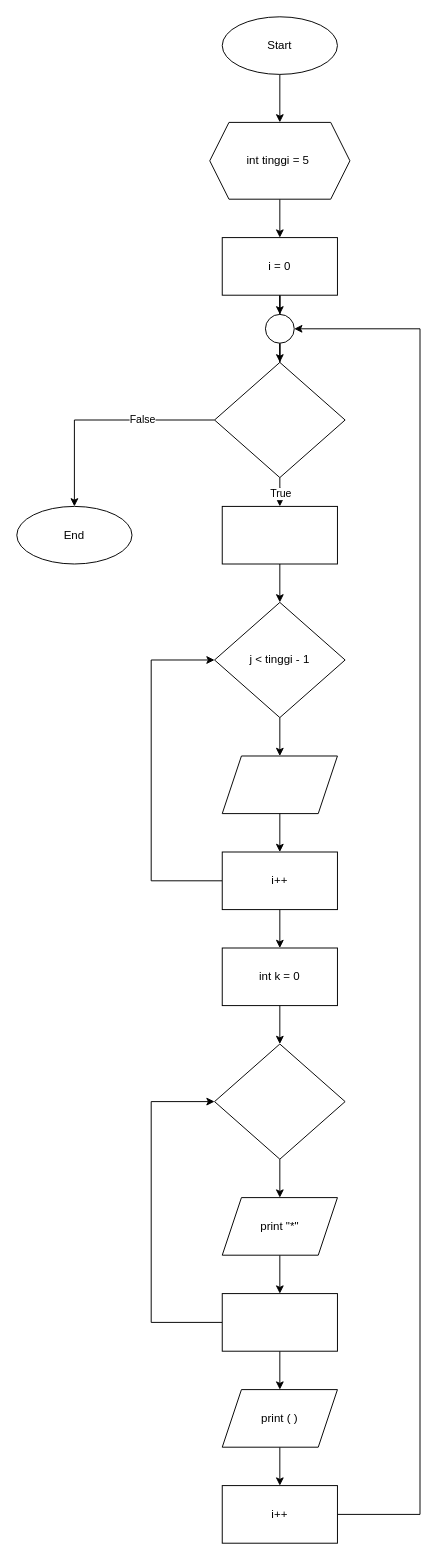
The diagram is 444 pixels wide and 1560 high, and some of its shapes have lost their labels. The shapes that lost their labels are listed below. From the top down, each one's box as (x1, y1, x2, y2) in pixels, then its label:
(214, 361, 345, 478): i < tinggi
(221, 505, 337, 564): int j = i
(221, 755, 337, 814): print " "
(214, 1043, 345, 1159): k <= 2 * i
(221, 1293, 337, 1351): k++
